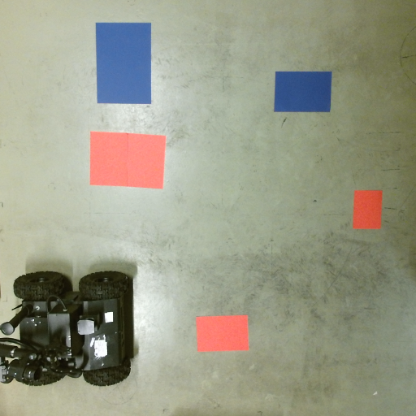Blue: (93, 20, 153, 108), (271, 70, 335, 113)
Jaguar: (0, 268, 135, 390)
Red: (86, 129, 168, 191), (193, 315, 250, 354), (349, 188, 383, 232)
